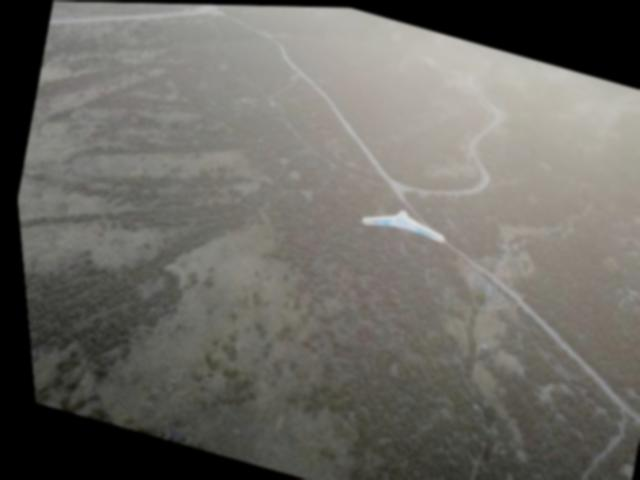iha: (349, 194, 447, 250)
